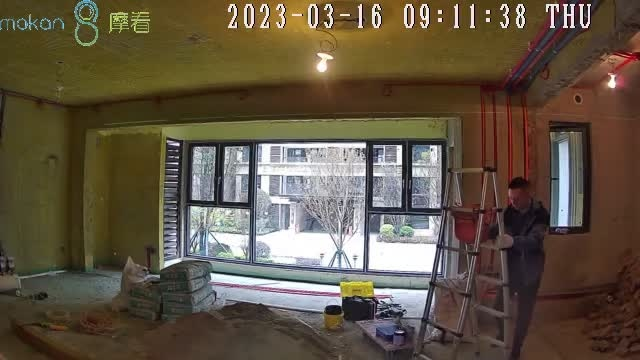people: (487, 176, 551, 360)
window: (182, 139, 446, 276)
